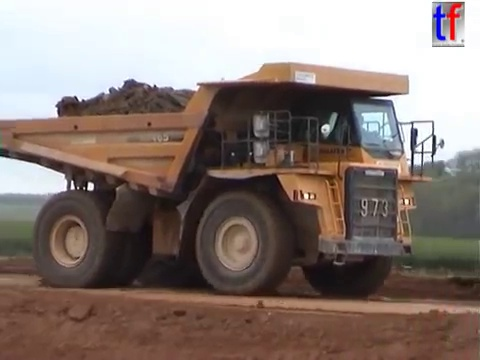truck: (1, 59, 447, 297)
